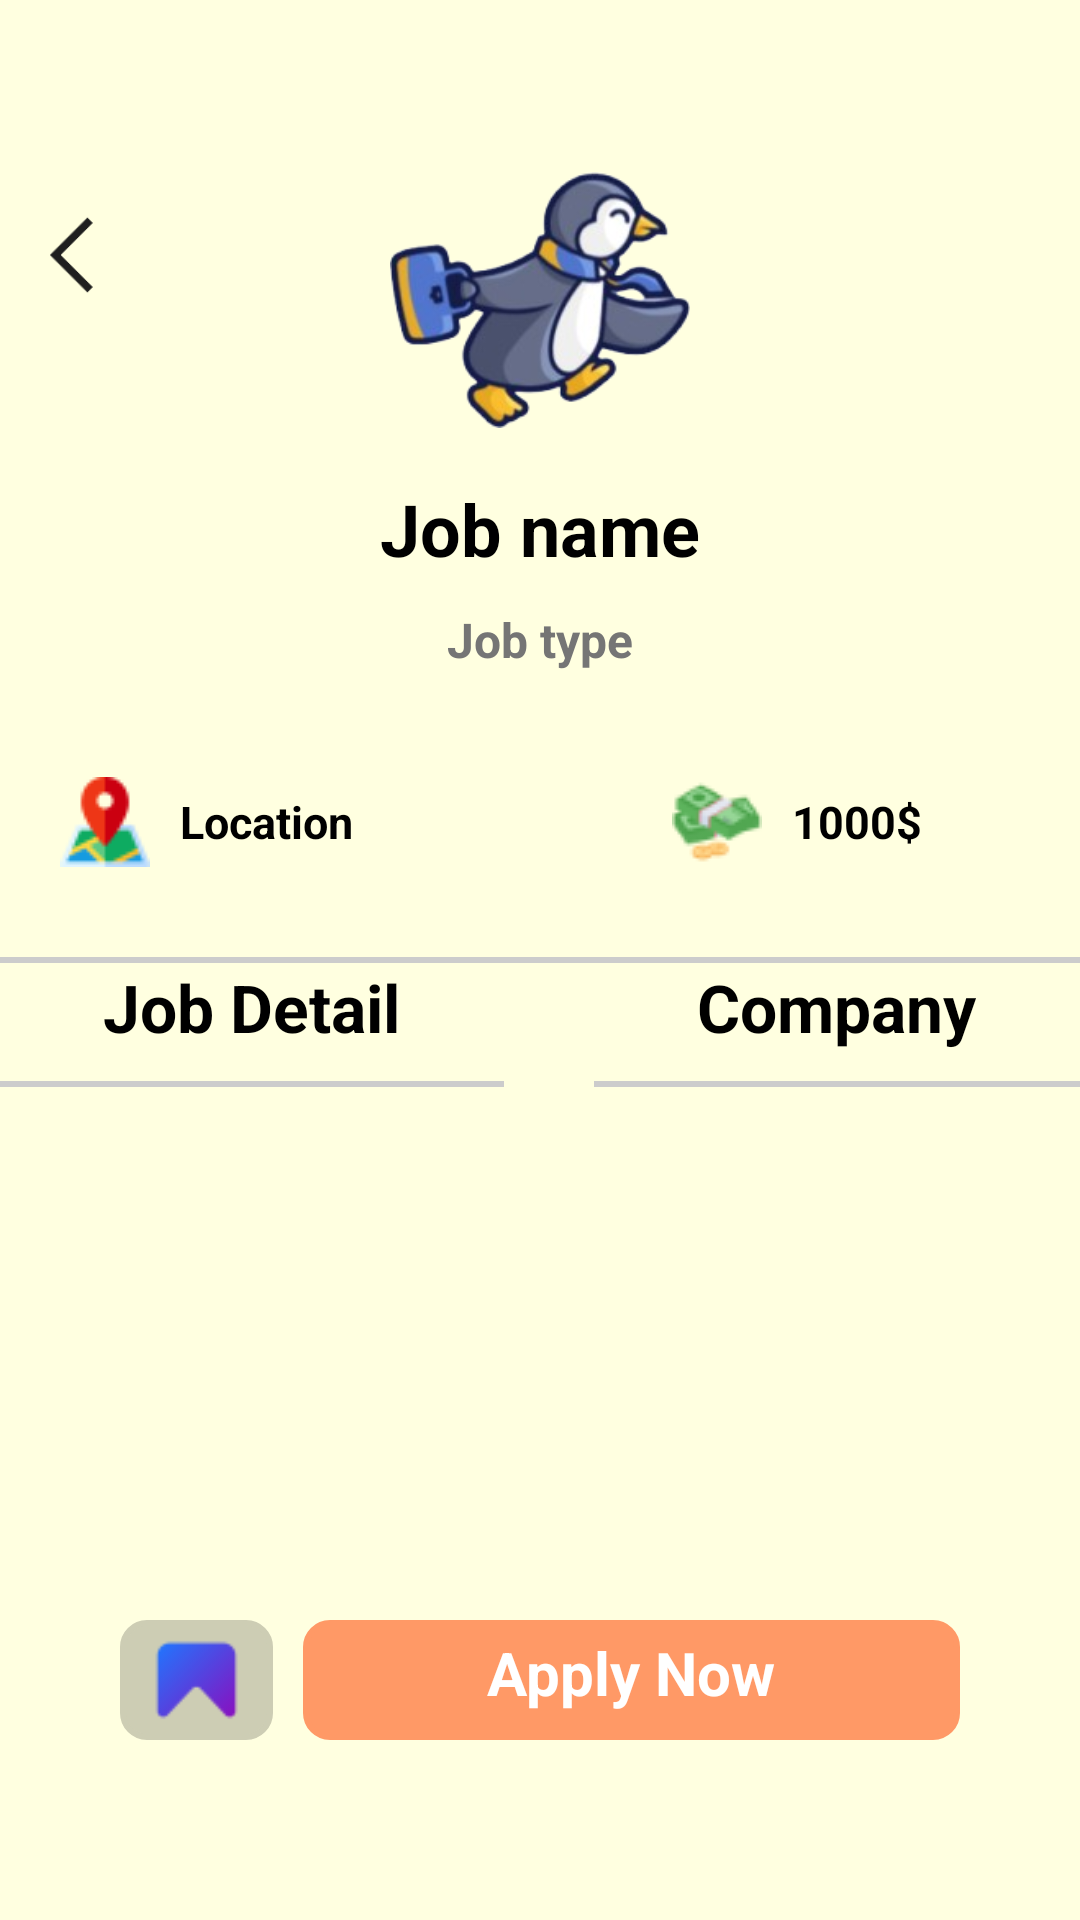

Locate icon controls on the screen. Image size 1080×1920, boxes as bbox=[x1, y1, x2, y2].
arrow come back: bbox=[50, 217, 93, 293]
bookmark: bbox=[120, 1620, 273, 1740]
penguin: bbox=[390, 173, 690, 428]
